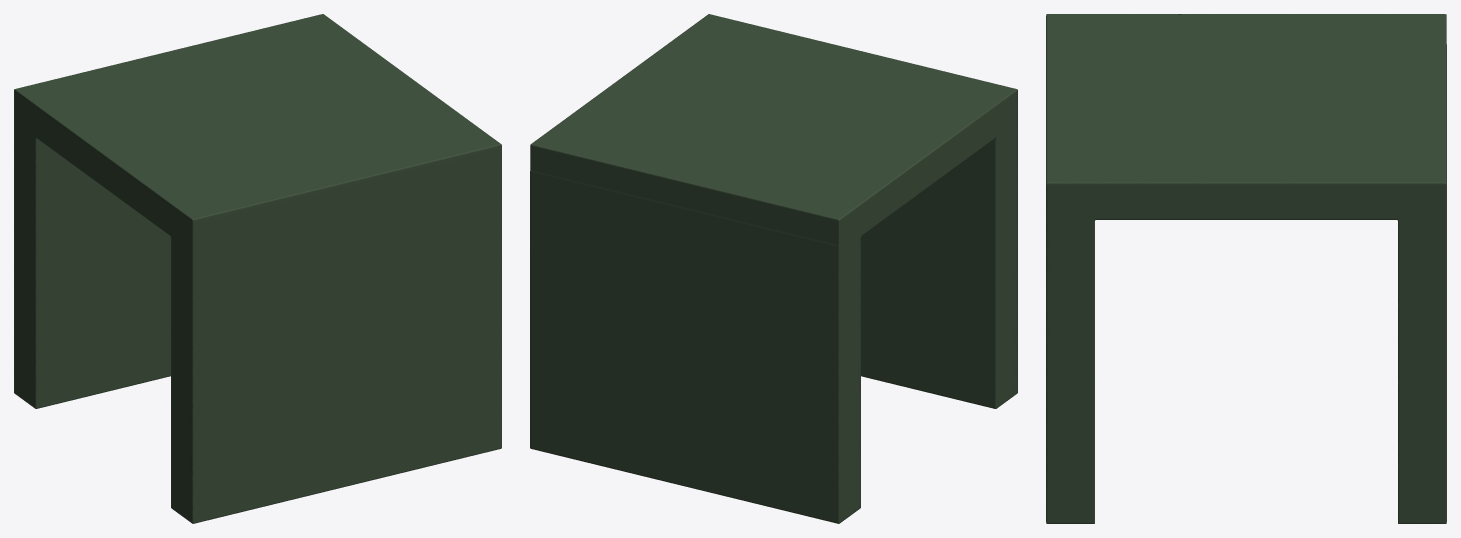
Rendered from greenTable_compressed.glb.
3 views of the same model, side by side, from view 1: azimuth 30°, elevation 25°; view 2: azimuth 150°, elevation 25°; view 3: azimuth 270°, elevation 25° (orthographic). The views are drawn at different scales.
Size of the model in its own units: 100 by 94.08 by 100.
1 material, 1 textured.
